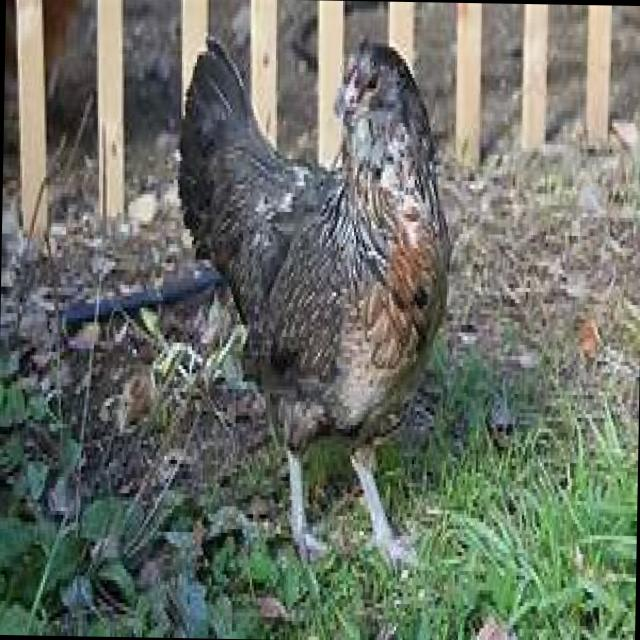animal: (162, 2, 464, 493)
